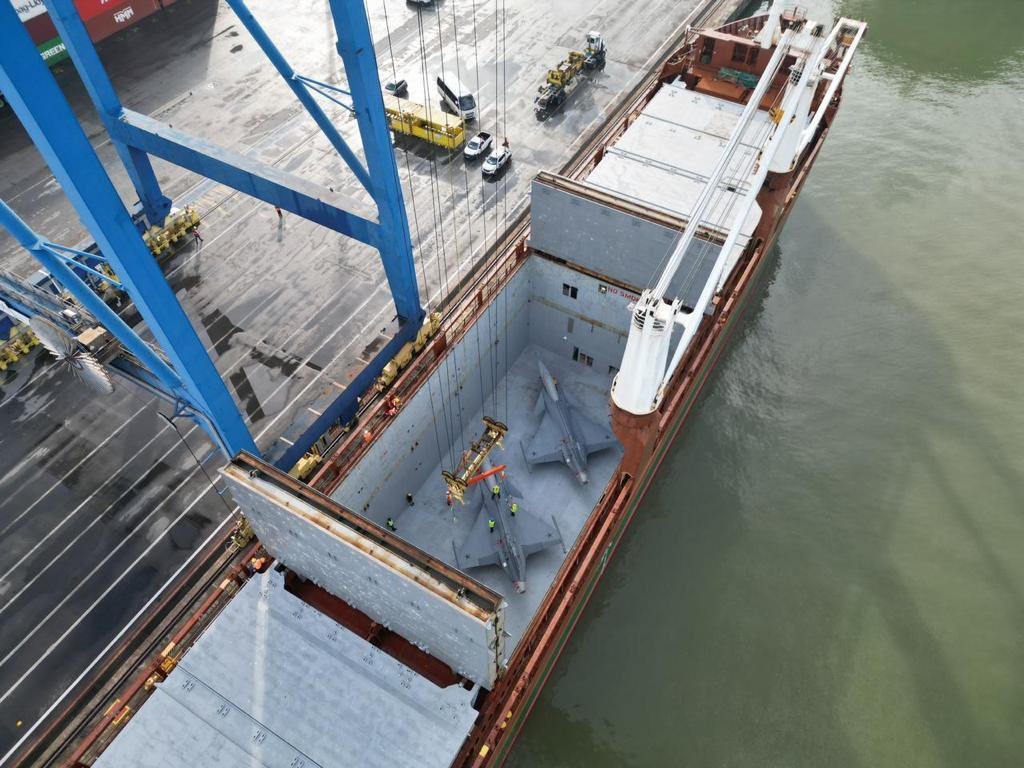JAS39: (451, 454, 568, 595), (518, 357, 624, 487)
